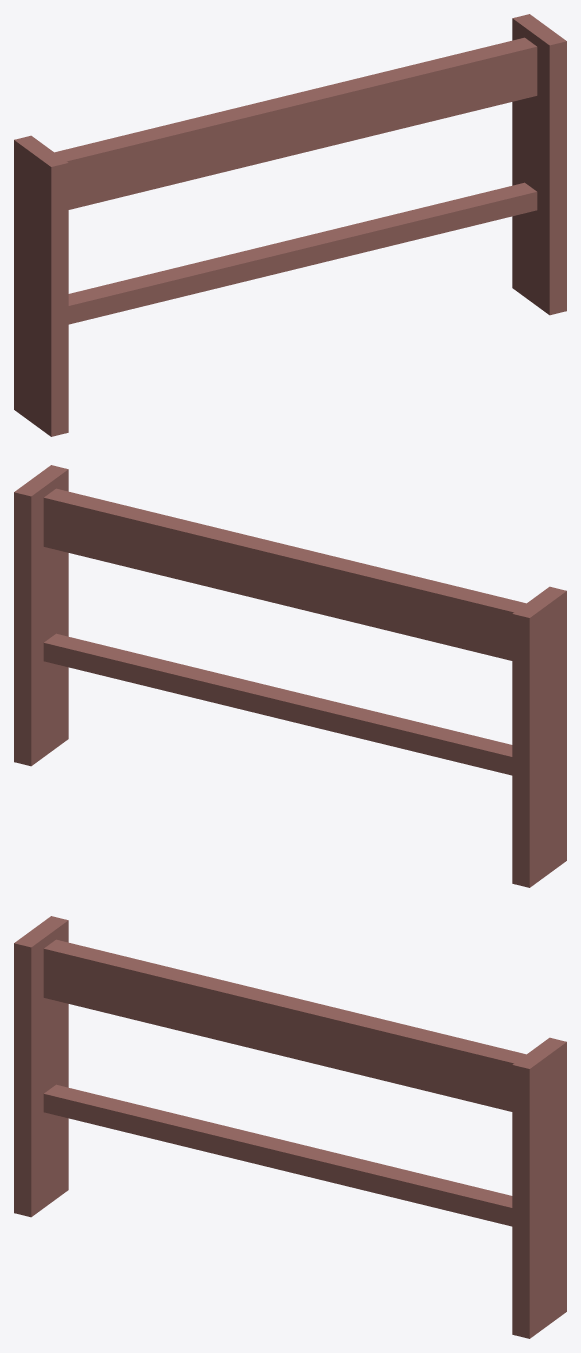
File: wooden-fence.fbx
3 views of the same model, one above another, from view 1: azimuth 30°, elevation 25°; view 2: azimuth 150°, elevation 25°; view 3: azimuth 330°, elevation 25° (orthographic).
Visible parts, largest first — view 1: 13. wooden-fence; view 2: 13. wooden-fence; view 3: 13. wooden-fence.
Part boxes in pixels (left/top/right/bottom): 13. wooden-fence: left=14, top=14, right=566, bottom=436; 13. wooden-fence: left=14, top=465, right=566, bottom=887; 13. wooden-fence: left=14, top=916, right=566, bottom=1338.
Size of the model in its own units: 2 by 1 by 0.25.
